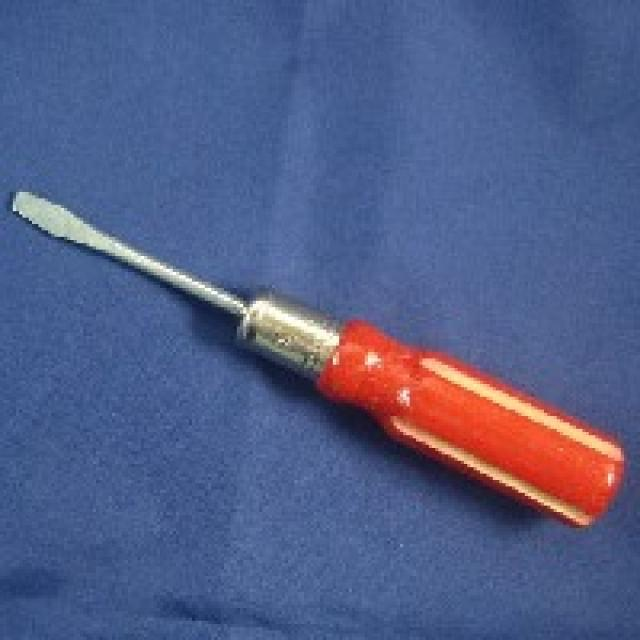screwdriver: (0, 180, 638, 540)
